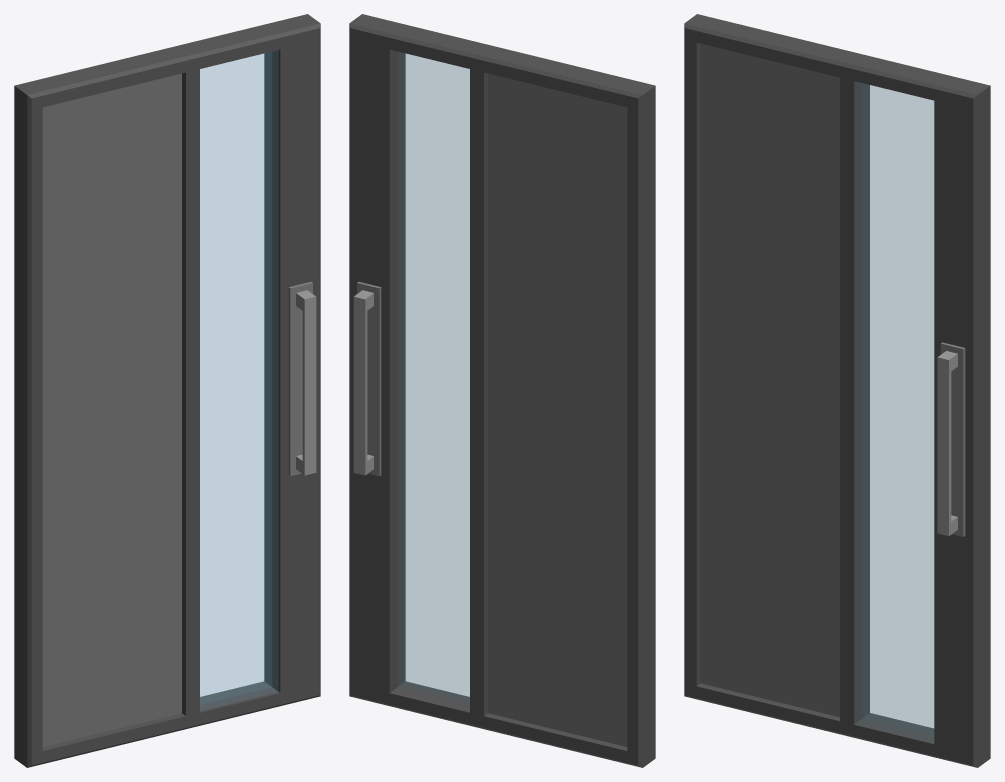
File: SM_Buildings_Football_01_Door_R.fbx
The picture shows the model from 3 angles, left to right: view 1: azimuth 30°, elevation 25°; view 2: azimuth 150°, elevation 25°; view 3: azimuth 330°, elevation 25°; orthographic projection.
Visible parts, largest first — view 1: SM_Buildings_Football_01_Door_R; view 2: SM_Buildings_Football_01_Door_R; view 3: SM_Buildings_Football_01_Door_R.
Part boxes in pixels (x1,y1,x2,y2): SM_Buildings_Football_01_Door_R: (14,14,320,767); SM_Buildings_Football_01_Door_R: (349,14,655,767); SM_Buildings_Football_01_Door_R: (684,14,990,767).
Size of the model in its own units: 1.05 by 2.3 by 0.2313.
